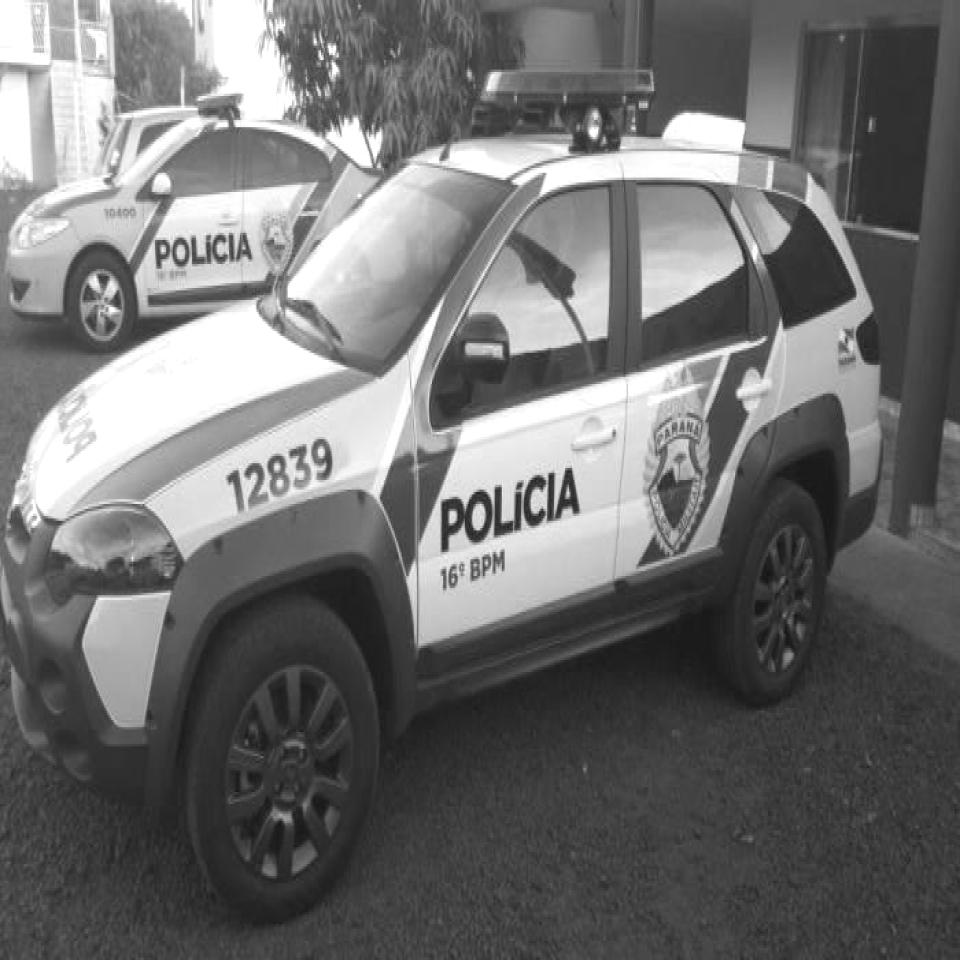viatura: (0, 64, 885, 918)
